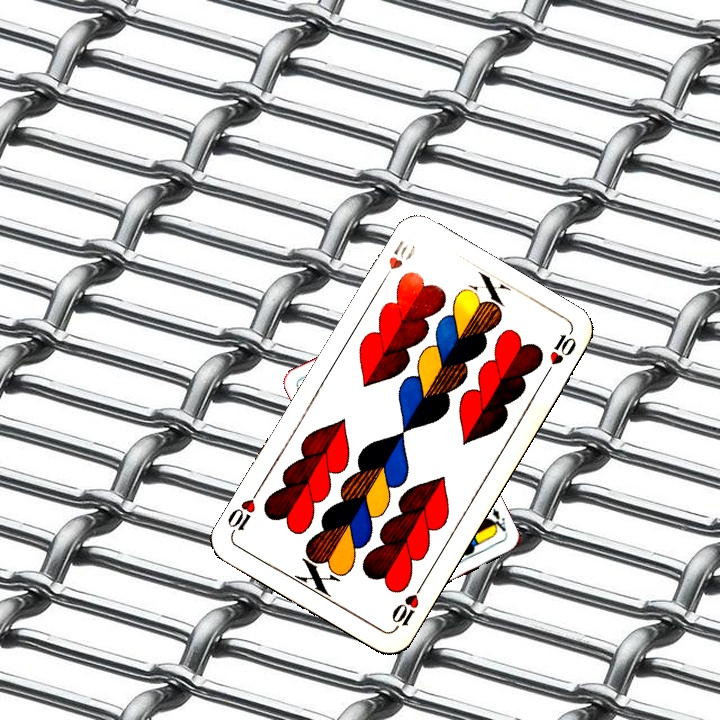EA: (485, 499, 509, 535)
H10: (376, 236, 418, 287), (387, 580, 426, 633)
